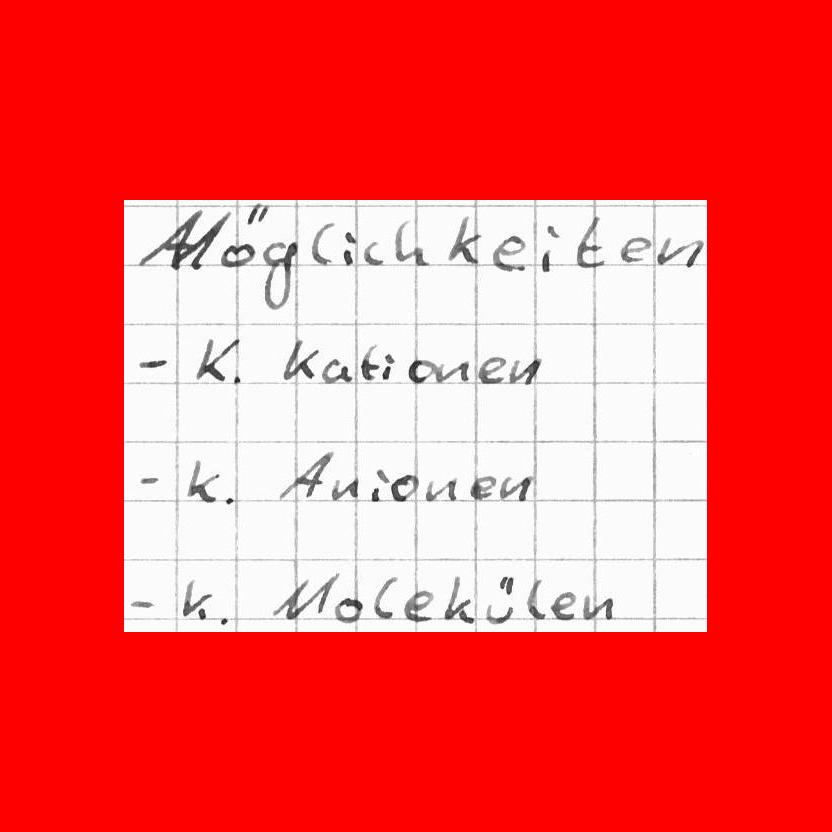Char: (134, 207, 224, 273), (217, 197, 269, 268), (275, 573, 336, 623), (259, 239, 298, 313), (279, 450, 331, 501), (446, 214, 483, 272), (193, 334, 238, 381), (182, 455, 221, 506), (575, 216, 609, 271), (392, 219, 428, 269), (282, 336, 318, 382), (442, 573, 474, 622), (486, 574, 516, 626), (179, 577, 213, 622), (658, 233, 700, 268), (538, 221, 563, 274), (492, 233, 525, 273), (309, 220, 335, 266), (372, 574, 397, 619), (497, 472, 532, 504), (402, 588, 434, 621), (524, 577, 546, 622), (581, 591, 614, 621), (619, 234, 651, 264), (327, 474, 360, 503), (424, 475, 458, 503), (509, 355, 539, 386), (390, 472, 419, 503), (549, 589, 577, 621), (333, 594, 363, 623), (478, 354, 506, 385), (321, 357, 353, 384), (407, 358, 437, 385), (468, 472, 495, 501), (438, 360, 470, 384), (359, 343, 378, 382), (370, 467, 390, 503), (136, 353, 169, 373), (362, 238, 385, 266), (341, 230, 357, 266), (127, 595, 157, 612), (135, 470, 163, 488), (380, 349, 395, 381), (221, 490, 239, 509), (215, 613, 235, 627)
